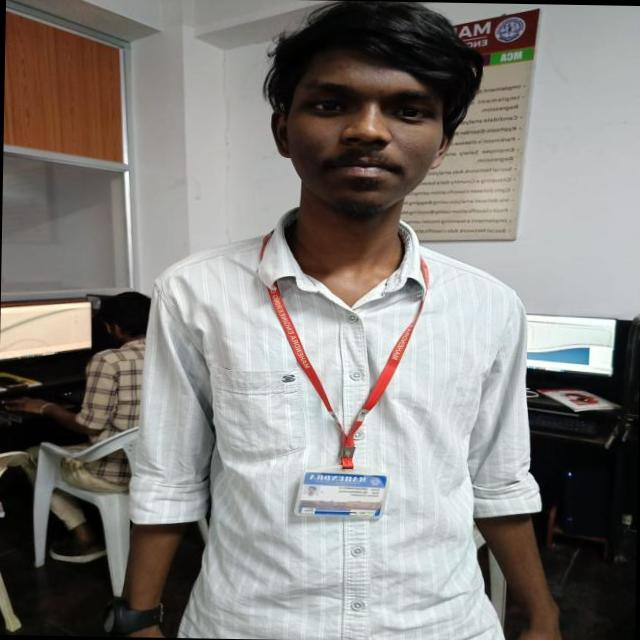id_card: (270, 252, 422, 518)
